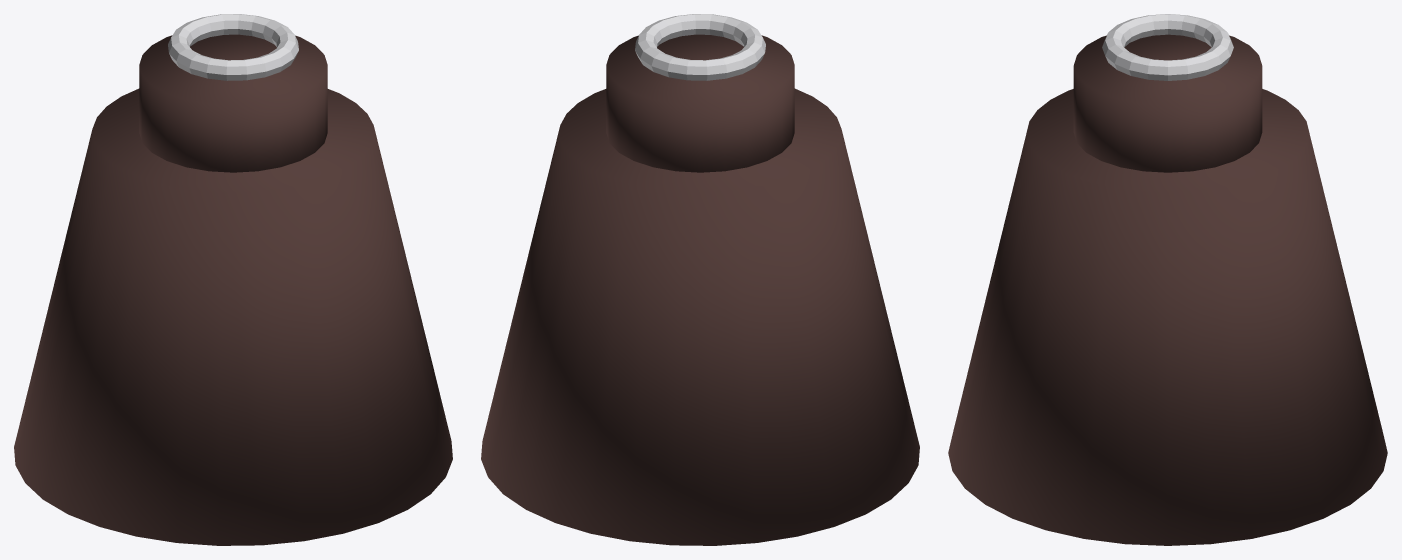
File: stopper.glb
The picture shows the model from 3 angles, left to right: view 1: azimuth 30°, elevation 25°; view 2: azimuth 150°, elevation 25°; view 3: azimuth 270°, elevation 25°; orthographic projection.
Parts seen in each view (by area): view 1: stopper_body, stopper_neck, string_loop; view 2: stopper_body, stopper_neck, string_loop; view 3: stopper_body, stopper_neck, string_loop.
Boxes of the visible parts, x1,y1,x2,y2 form: stopper_body: [14, 88, 452, 545]; stopper_neck: [139, 34, 327, 172]; string_loop: [168, 14, 298, 80]; stopper_body: [481, 88, 919, 545]; stopper_neck: [606, 34, 794, 172]; string_loop: [635, 14, 765, 80]; stopper_body: [948, 89, 1387, 545]; stopper_neck: [1073, 34, 1262, 172]; string_loop: [1102, 14, 1233, 80].
Size of the model in its own units: 0.056 by 0.0584 by 0.056.
